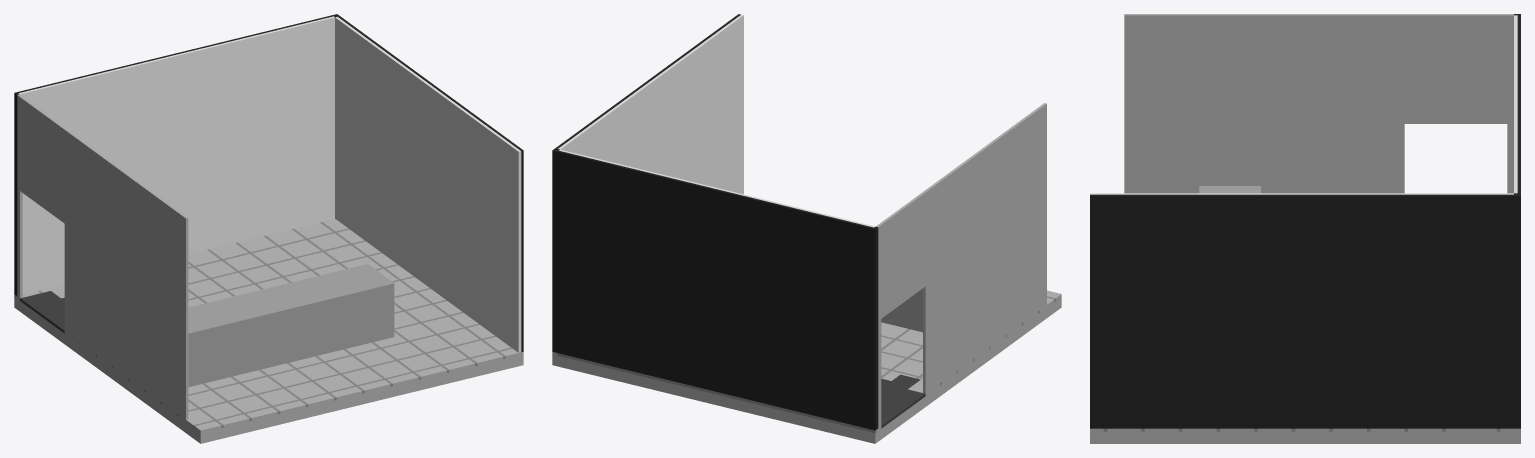
File: 2x2 first (2)-2.obj
3 views of the same model, side by side, from view 1: azimuth 30°, elevation 25°; view 2: azimuth 150°, elevation 25°; view 3: azimuth 270°, elevation 25° (orthographic). The views are drawn at different scales.
Parts seen in each view (by area): view 1: 2x2 first (2)-2; view 2: 2x2 first (2)-2; view 3: 2x2 first (2)-2.
Boxes of the visible parts, left/top/right/bottom form: 2x2 first (2)-2: left=14, top=14, right=523, bottom=443; 2x2 first (2)-2: left=552, top=14, right=1061, bottom=443; 2x2 first (2)-2: left=1090, top=14, right=1520, bottom=443.
Bounding box in the file's own units: 126 × 80 × 126.
1 material, 1 textured.
